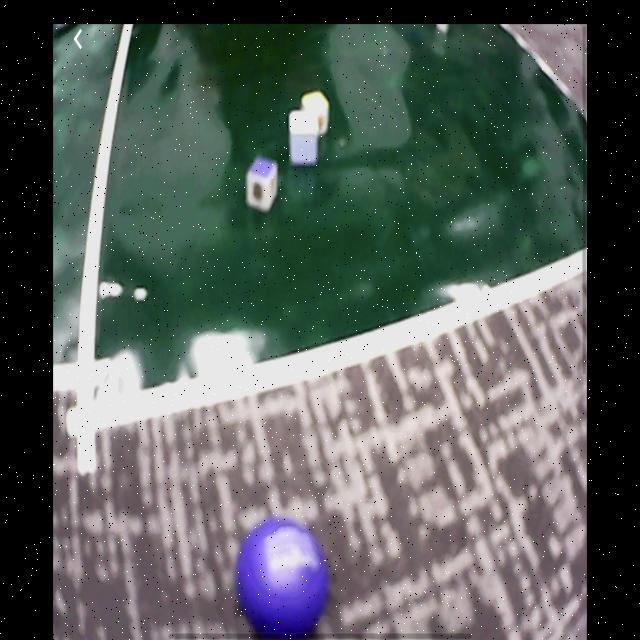ball: (238, 520, 329, 639)
